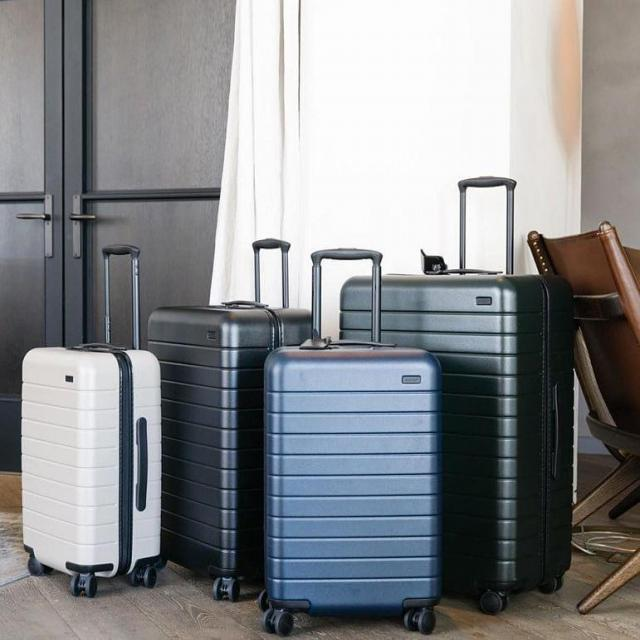luggage: (337, 270, 578, 598), (256, 340, 444, 619), (137, 299, 318, 587), (13, 336, 167, 574)
